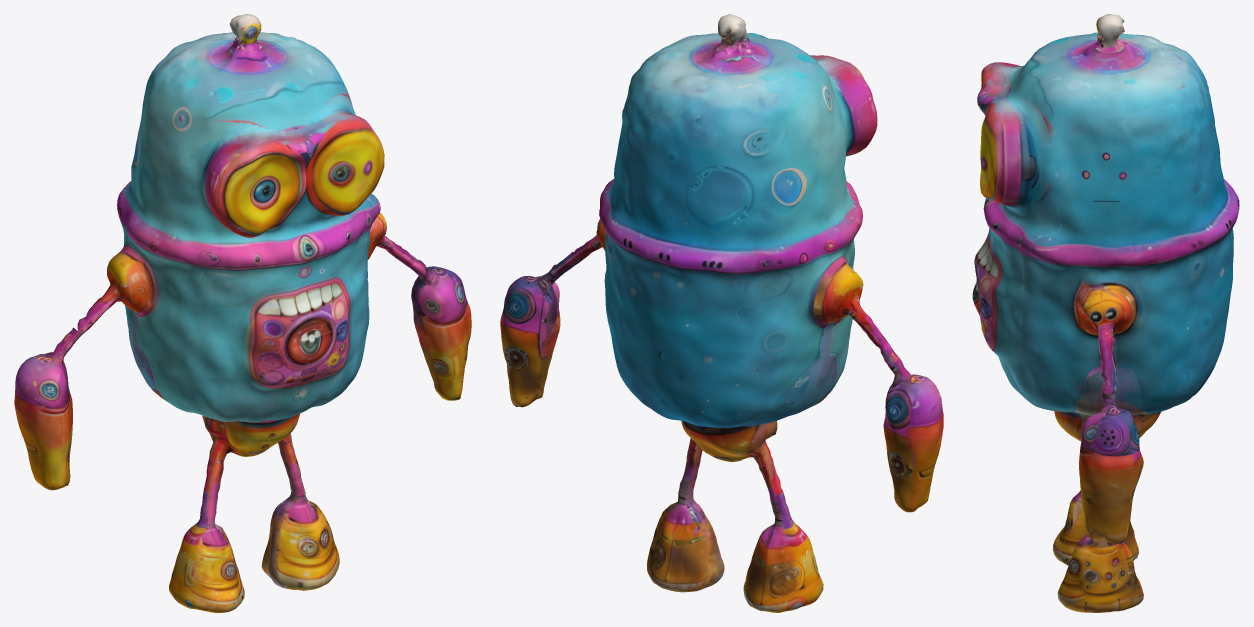
3 renders of one model, left to right at view 1: azimuth 30°, elevation 25°; view 2: azimuth 150°, elevation 25°; view 3: azimuth 270°, elevation 25°, orthographic. The views are drawn at different scales.
Size of the model in its own units: 0.9563 by 1.2 by 0.5083.
Materials: 1 (1 with a texture image).
